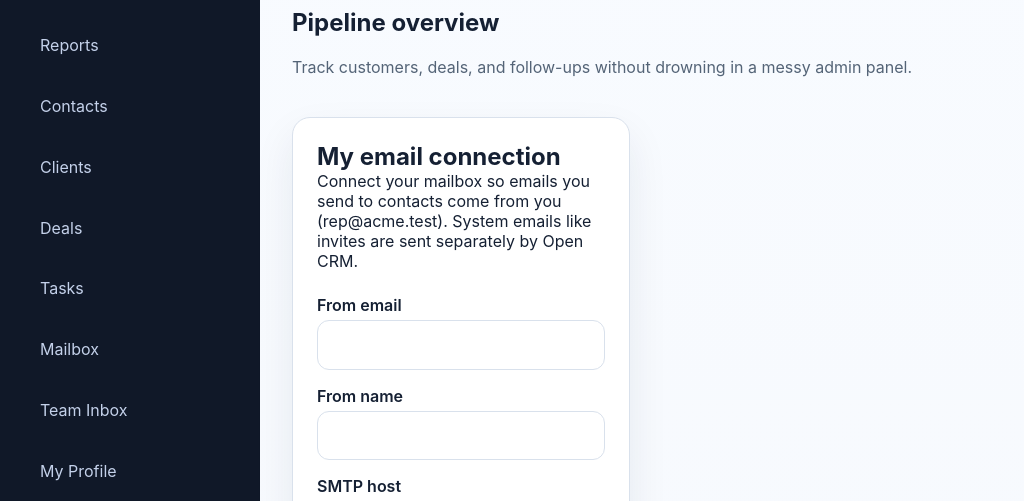
Test: settings email account route › saves an OAuth mailbox without collecting an SMTP password
The width and height of the screenshot is (1024, 501).
Type "rep@acme.test" into the field labelled "From email" at (461, 345), box [317,320,605,370]
(page scrolled)
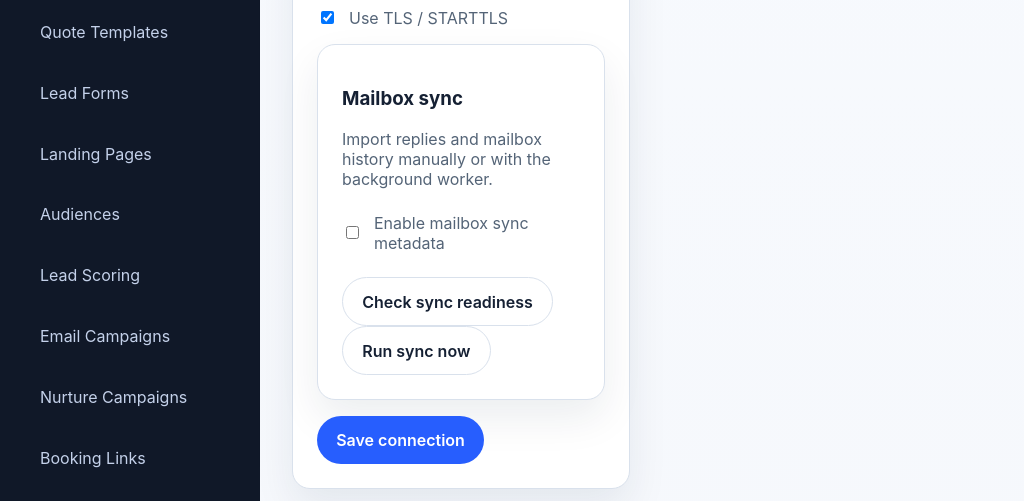
Click the checkbox labelled "Enable mailbox sync metadata" at (352, 233), box [346,226,359,239]
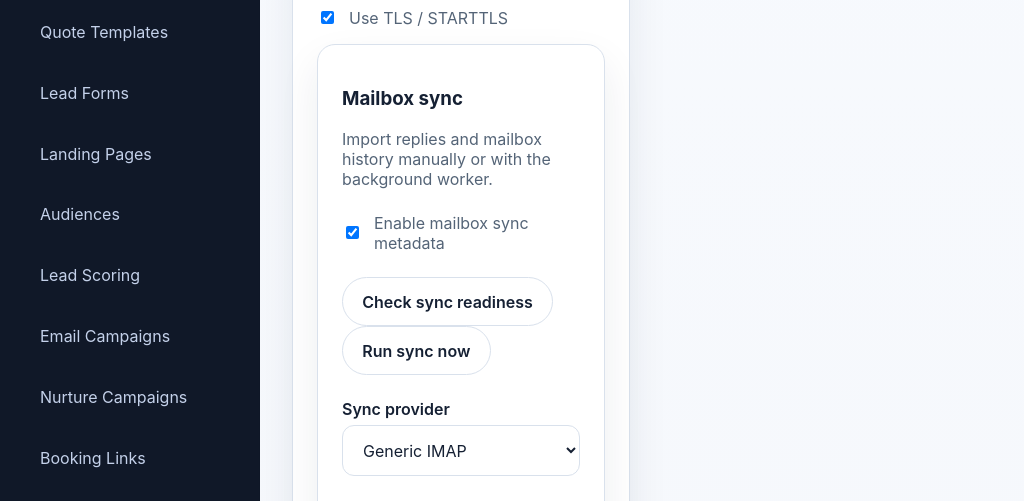
Select "Google Workspace / Gmail OAuth" in the dropdown labelled "Sync provider" at (461, 450), box [342,425,580,476]
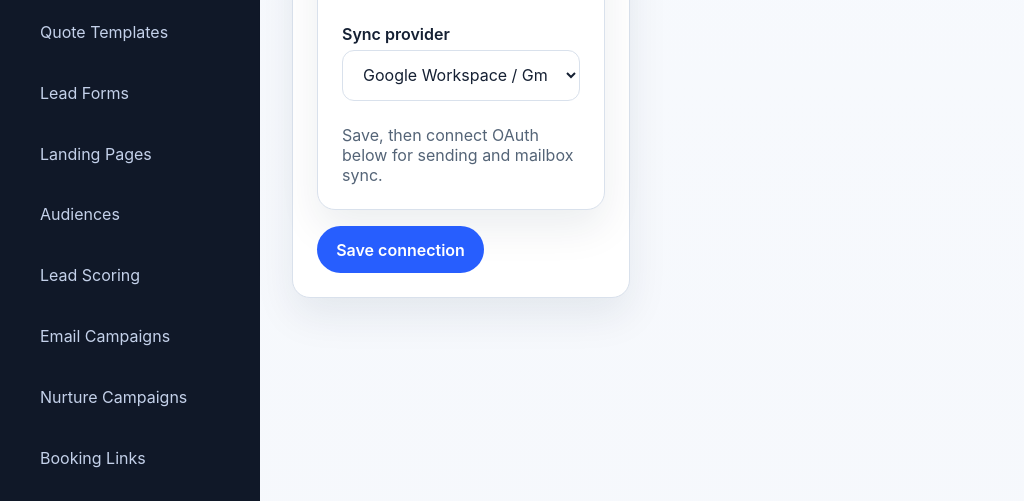
Click the button "Save connection" at (401, 250), box [317,226,484,273]
(page scrolled)
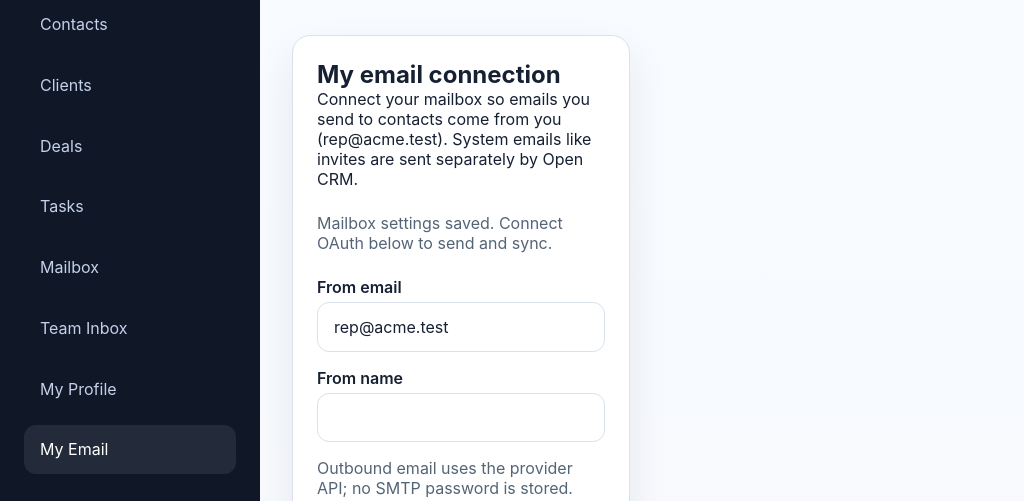
Expected: the message reads "Mailbox settings saved. Connect OAuth below to send and sync.", [317,213,563,253]
